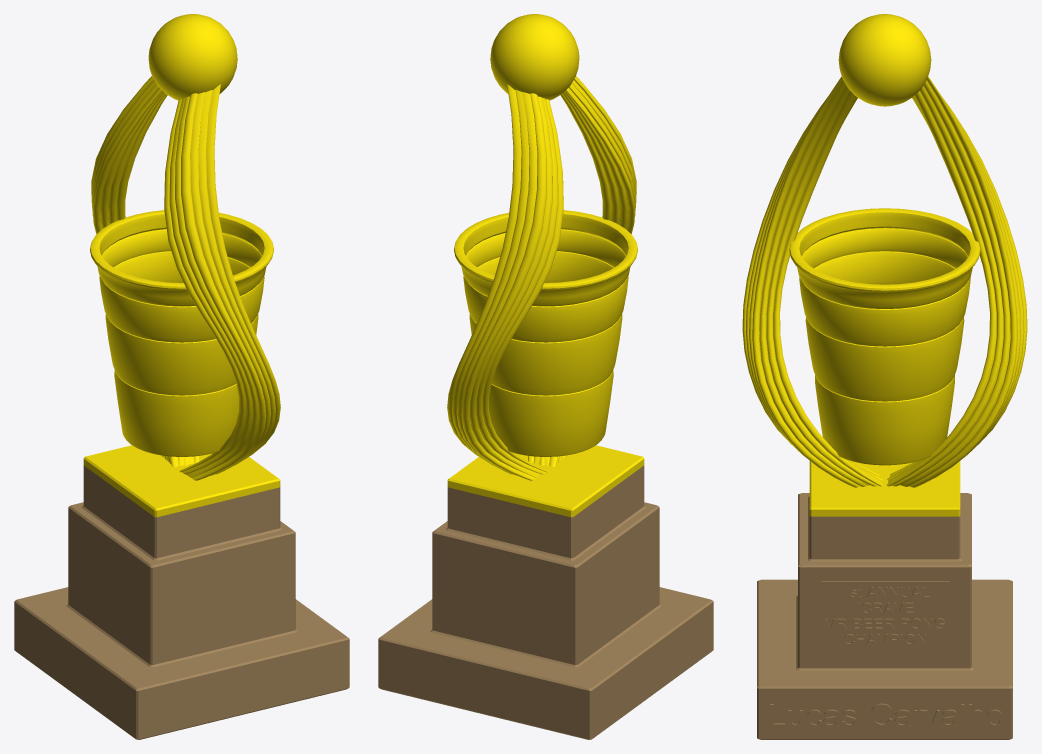
File: trophy_with_wood_base.glb
3 views of the same model, side by side, from view 1: azimuth 30°, elevation 25°; view 2: azimuth 150°, elevation 25°; view 3: azimuth 270°, elevation 25° (orthographic). The views are drawn at different scales.
Parts seen in each view (by area): view 1: Object001_Object001_mtl_0; view 2: Object001_Object001_mtl_0; view 3: Object001_Object001_mtl_0.
Boxes of the visible parts, x1,y1,x2,y2 form: Object001_Object001_mtl_0: (14, 14, 349, 739); Object001_Object001_mtl_0: (378, 14, 713, 739); Object001_Object001_mtl_0: (742, 14, 1027, 739).
Bounding box in the file's own units: 22.25 × 64.11 × 24.57.
